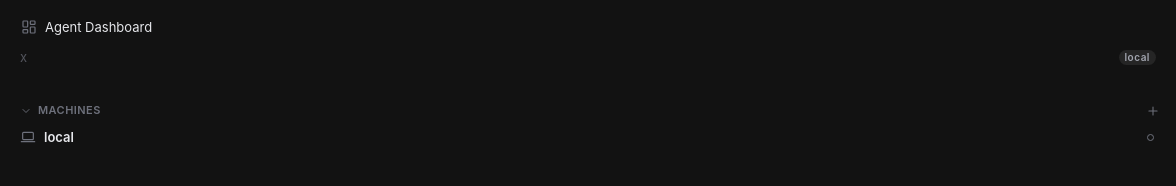
Test: Sidebar machine actions › shows a failed inline Start
Click the button with aria-label "Start x".
click(1137, 57)  # box x1=12 y1=43 x2=1164 y2=71
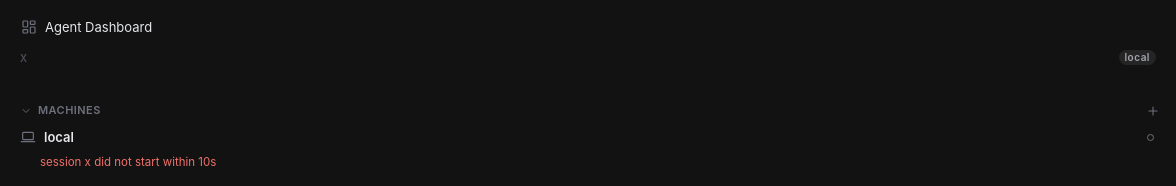
Check: the message shows "did not start", box x1=40 y1=155 x2=216 y2=169
